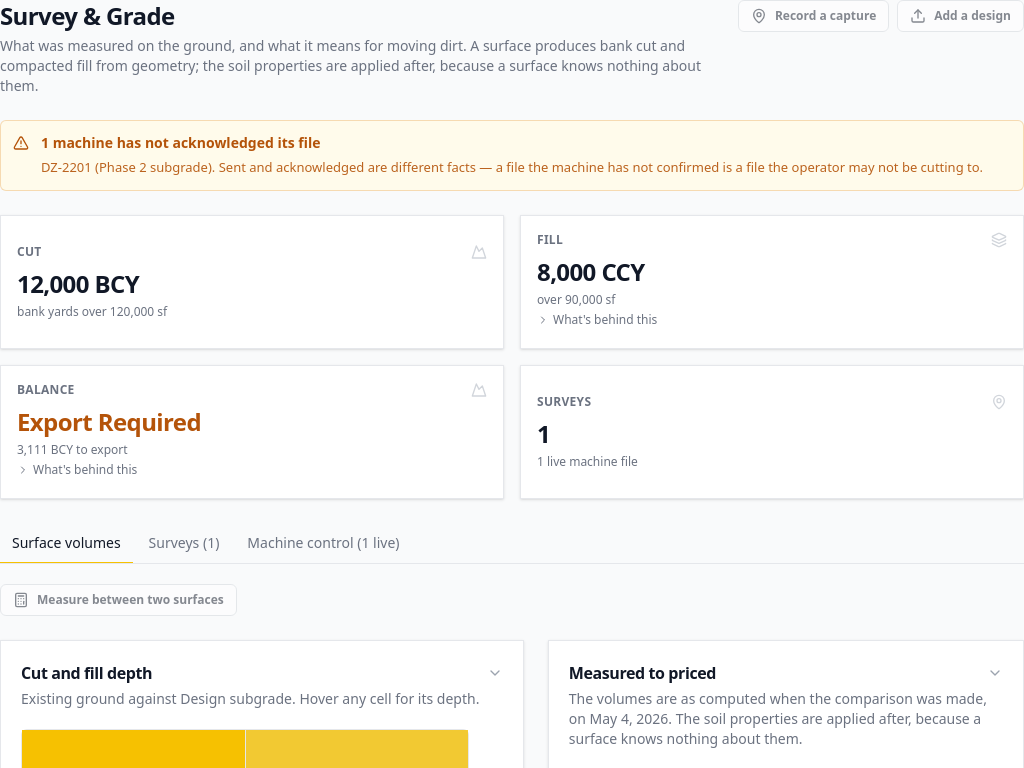
Test: the tiles › explains why cut and fill are not the same unit
Click the button with aria-label "What is behind Fill".
click(591, 272)  # box [537, 232, 1007, 328]
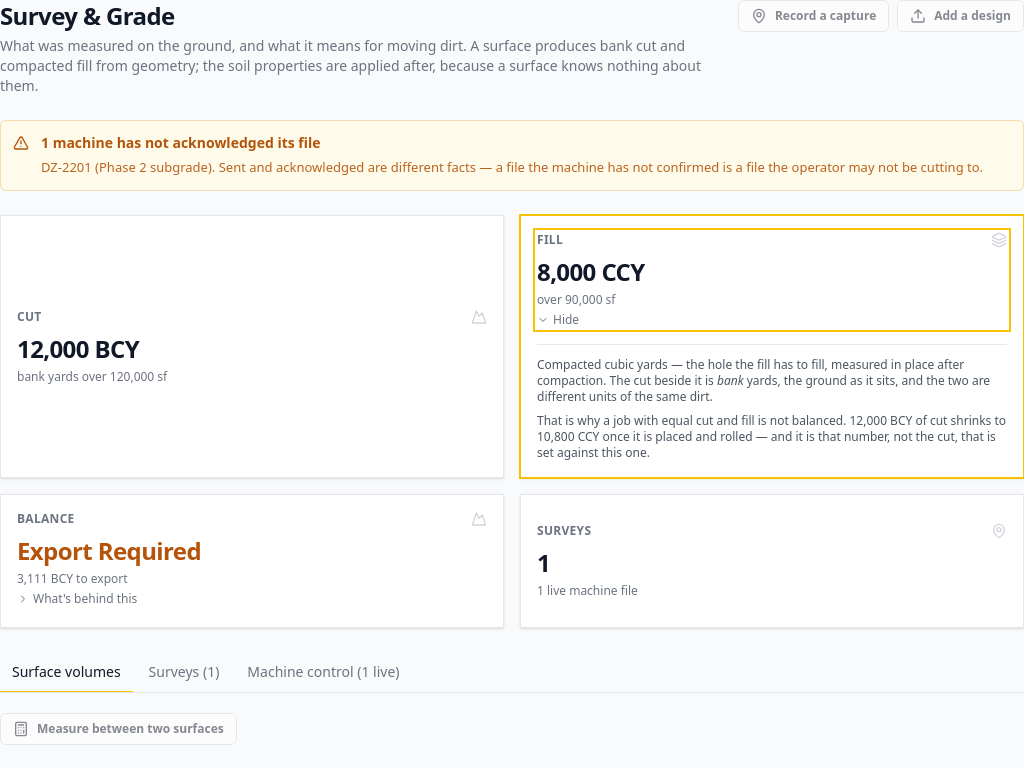
Result: the text "different units of the same dirt" is shown at [537, 372, 990, 405]
Result: the text "equal cut and fill is not balanced" is shown at [537, 412, 846, 429]
